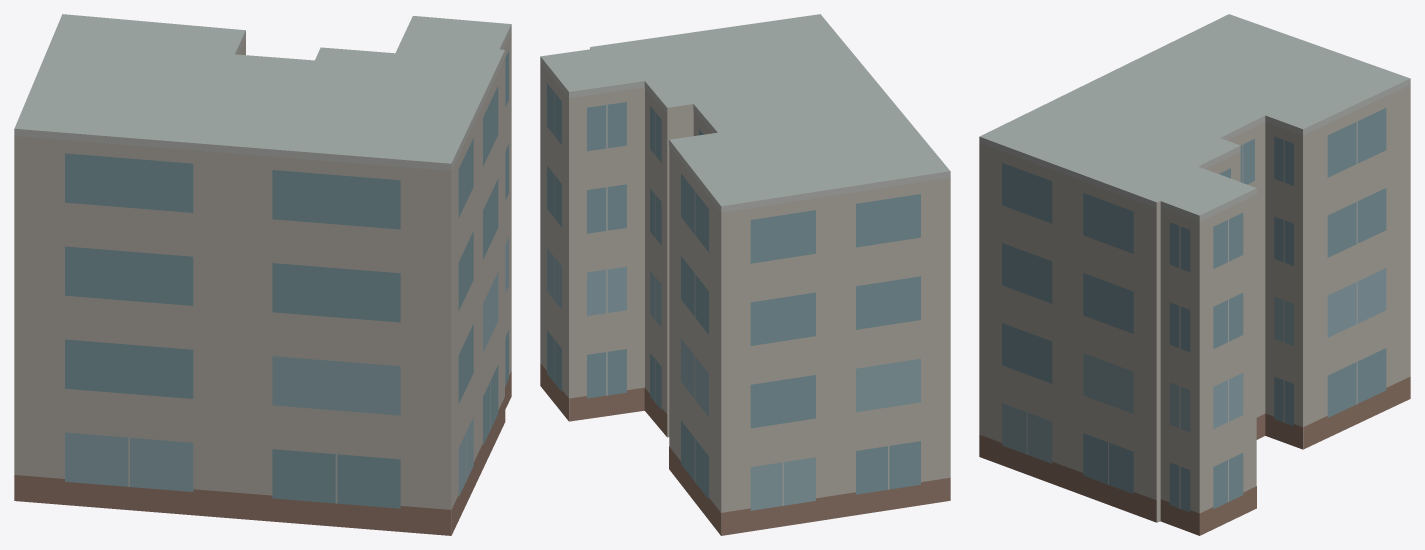
The model's file is survey-upis-32901489.glb.
3 renders of one model, left to right at view 1: azimuth 30°, elevation 25°; view 2: azimuth 150°, elevation 25°; view 3: azimuth 270°, elevation 25°, orthographic. The views are drawn at different scales.
Visible parts, largest first — view 1: survey-upis-32901489.tmp; view 2: survey-upis-32901489.tmp; view 3: survey-upis-32901489.tmp.
Boxes of the visible parts, x1,y1,x2,y2 form: survey-upis-32901489.tmp: (14,14,511,535); survey-upis-32901489.tmp: (540,14,950,535); survey-upis-32901489.tmp: (979,14,1410,535).
Bounding box in the file's own units: 17.01 × 12.59 × 15.37.
